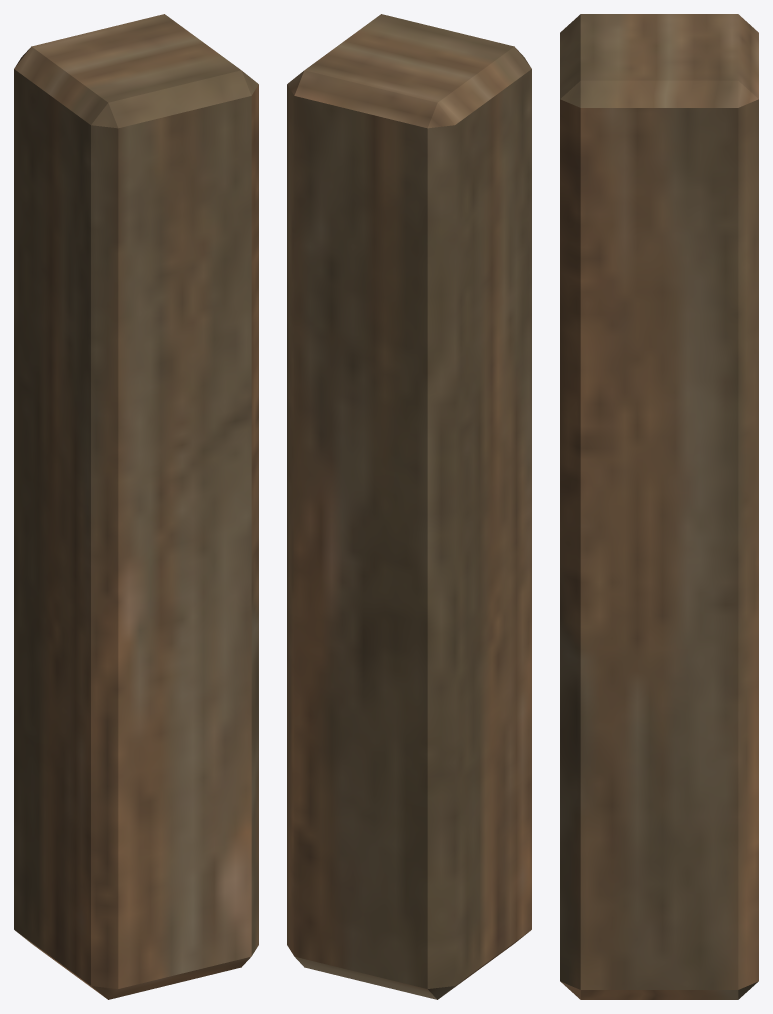
The model's file is SM_bark_04.fbx.
3 views of the same model, side by side, from view 1: azimuth 30°, elevation 25°; view 2: azimuth 150°, elevation 25°; view 3: azimuth 270°, elevation 25° (orthographic). The views are drawn at different scales.
Parts seen in each view (by area): view 1: SM_bark_04_LOD0; view 2: SM_bark_04_LOD0; view 3: SM_bark_04_LOD0.
Part boxes in pixels (x1,y1,x2,y2): SM_bark_04_LOD0: (14,14,258,999); SM_bark_04_LOD0: (287,14,531,999); SM_bark_04_LOD0: (560,14,758,999).
Bounding box in the file's own units: 20 × 20 × 102.
Materials: 1 (1 with a texture image).
